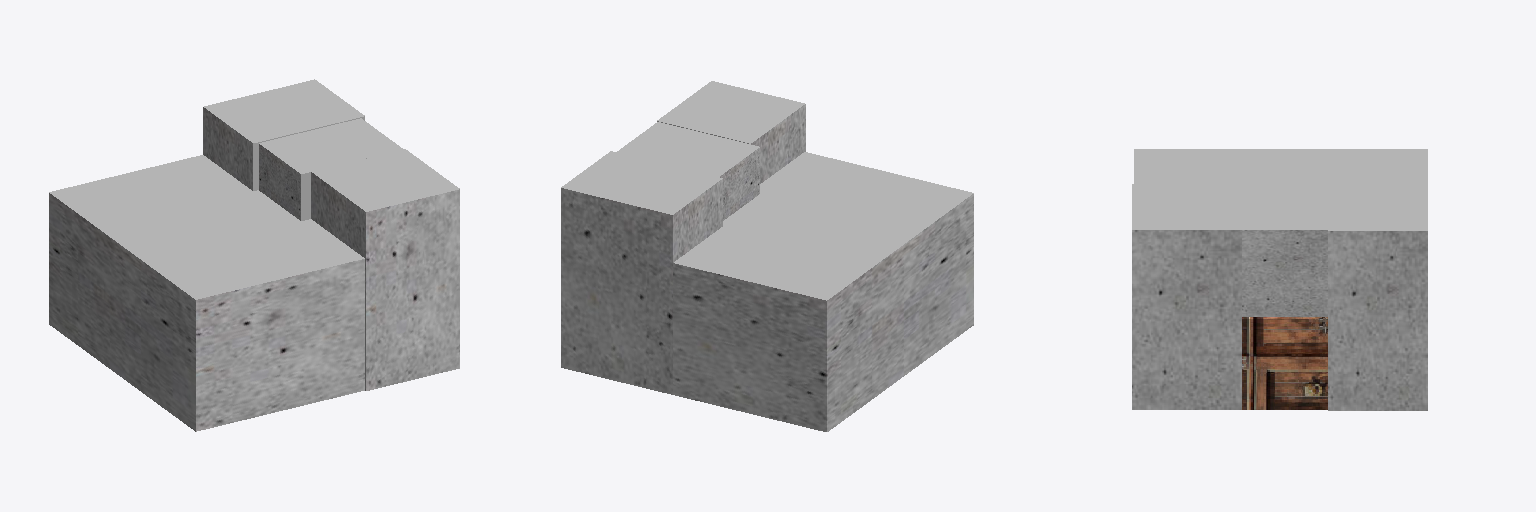
3 views of the same model, side by side, from view 1: azimuth 30°, elevation 25°; view 2: azimuth 150°, elevation 25°; view 3: azimuth 270°, elevation 25° (orthographic).
Visible parts, largest first — view 1: Cube.004, Cube.001, Cube.003, Cube.002; view 2: Cube.004, Cube.003, Cube.001, Cube.002; view 3: Cube.001, Cube.003, Cube.002, Cube.004, Cube.
Boxes of the visible parts, x1,y1,x2,y2 form: Cube.004: [49, 155, 364, 431]; Cube.001: [311, 149, 459, 390]; Cube.003: [203, 79, 364, 190]; Cube.002: [259, 118, 402, 220]; Cube.004: [673, 152, 973, 431]; Cube.003: [561, 151, 722, 394]; Cube.001: [657, 81, 805, 183]; Cube.002: [617, 122, 759, 220]; Cube.001: [1132, 184, 1241, 409]; Cube.003: [1328, 176, 1427, 410]; Cube.002: [1242, 180, 1327, 316]; Cube.004: [1134, 149, 1427, 183]; Cube: [1242, 317, 1327, 409].
Size of the model in its own units: 9.35 by 6.03 by 9.
Materials: 9 (2 with a texture image).